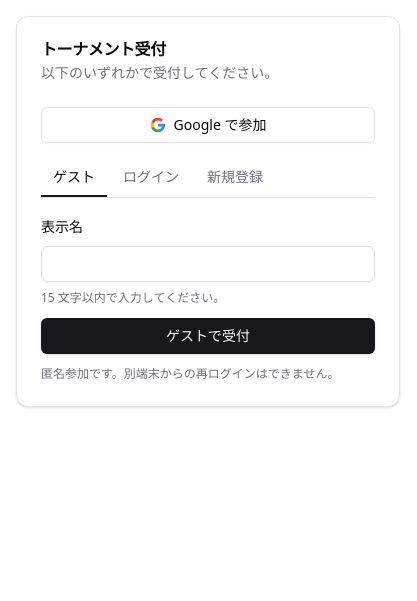
Test: JoinClient — 新規登録タブ（08 Phase 3） › 送信すると joinAsNewUser を呼び、所属メッセージ付きの受付完了になる
The width and height of the screenshot is (417, 601).
Click the tab "新規登録": (235, 178) top-left (195, 159), bottom-right (275, 197)
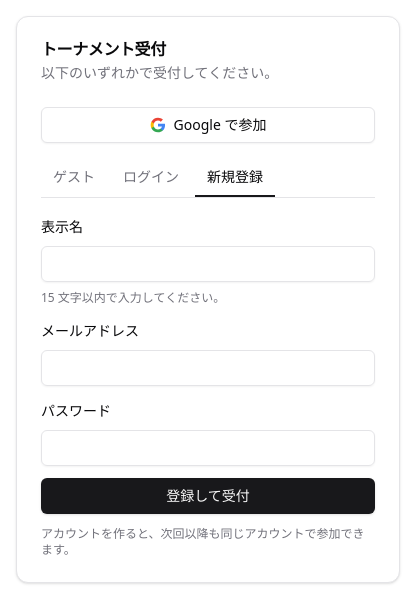
In the field labelled "表示名": (208, 264) top-left (41, 246), bottom-right (375, 282), type "Alice"
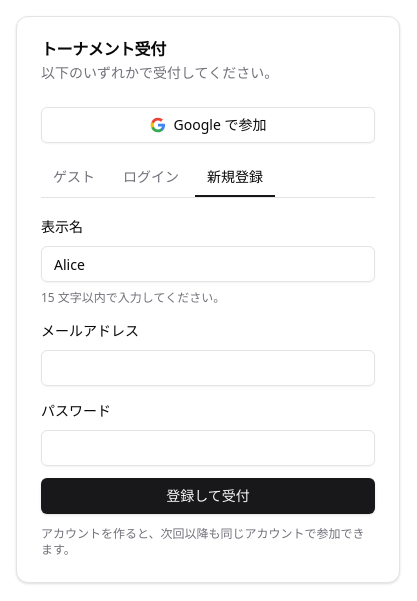
In the field labelled "メールアドレス": (208, 368) top-left (41, 350), bottom-right (375, 386), type "alice@example.com"
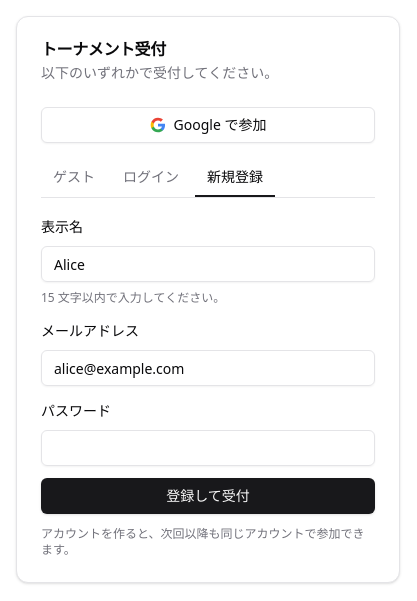
In the password field labelled "パスワード": (208, 448) top-left (41, 430), bottom-right (375, 466), type "pass123456"
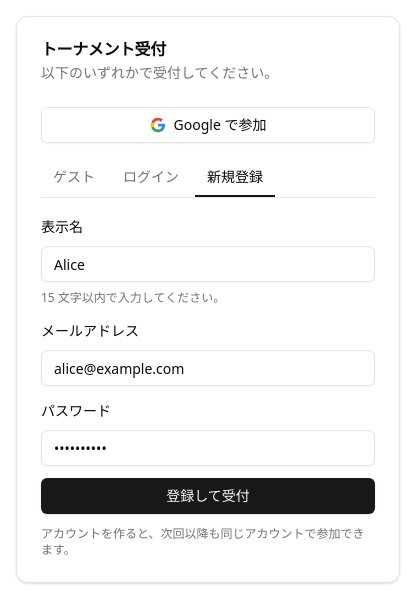
Click the button "登録して受付": (208, 496) top-left (41, 478), bottom-right (375, 514)
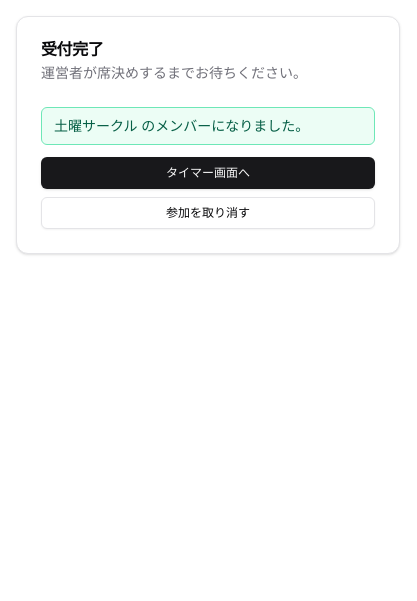
Result: the text "受付完了" is shown at top-left (41, 38), bottom-right (103, 60)
Result: the text "土曜サークル のメンバーになりました。" is shown at top-left (41, 107), bottom-right (375, 145)
